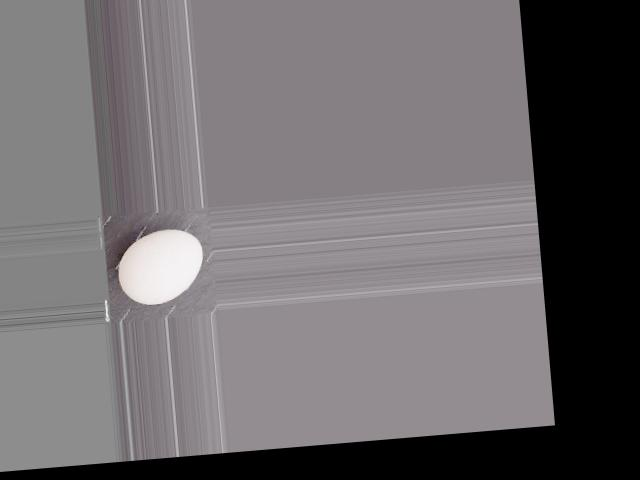egg: (114, 226, 206, 306)
